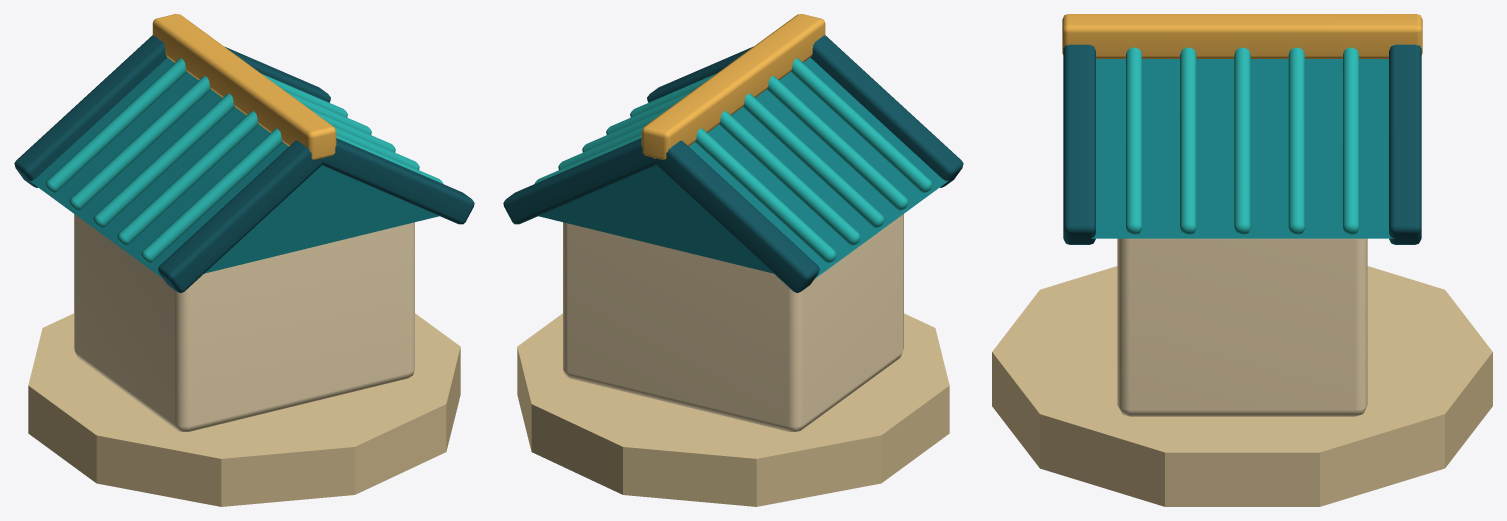
The model's file is Map_Copperport.fbx.
3 renders of one model, left to right at view 1: azimuth 30°, elevation 25°; view 2: azimuth 150°, elevation 25°; view 3: azimuth 270°, elevation 25°, orthographic. The views are drawn at different scales.
Parts seen in each view (by area): view 1: Map_Copperport_Static; view 2: Map_Copperport_Static; view 3: Map_Copperport_Static.
Boxes of the visible parts, x1,y1,x2,y2 form: Map_Copperport_Static: (14,14,474,506); Map_Copperport_Static: (503,14,963,506); Map_Copperport_Static: (992,14,1492,506).
Bounding box in the file's own units: 1.9 × 1.71 × 2.
1 material, 1 textured.
